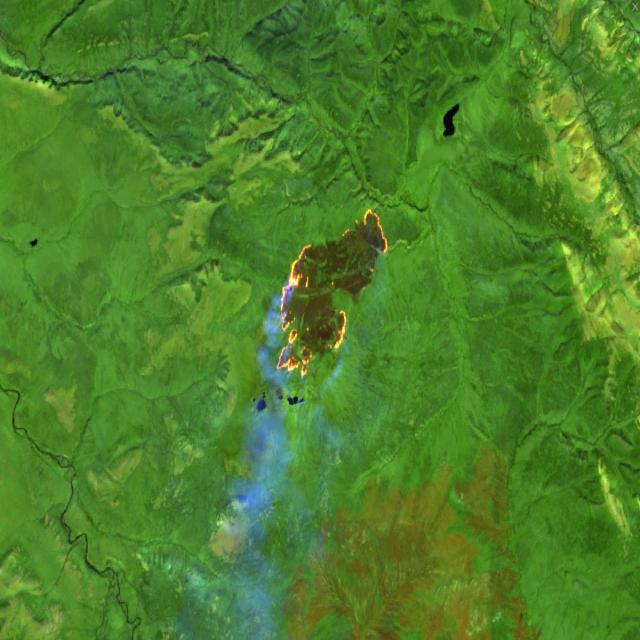fire: (270, 200, 390, 382)
